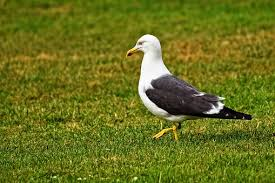Walking: (111, 27, 264, 168)
